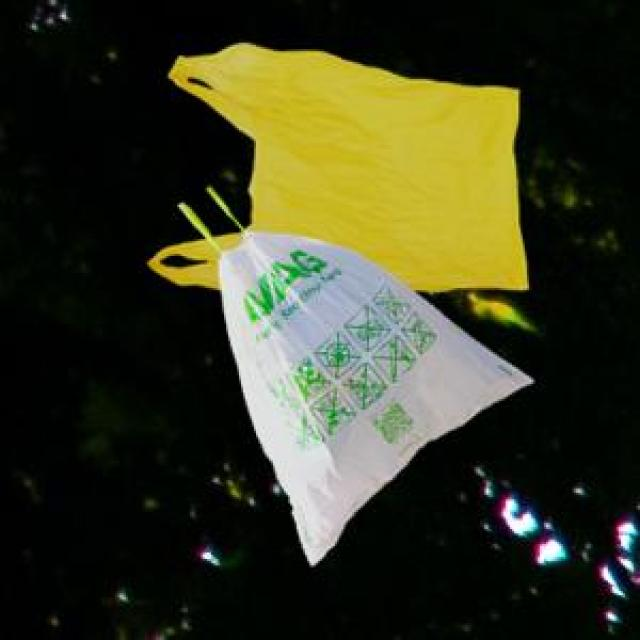plastic: (123, 24, 595, 577)
